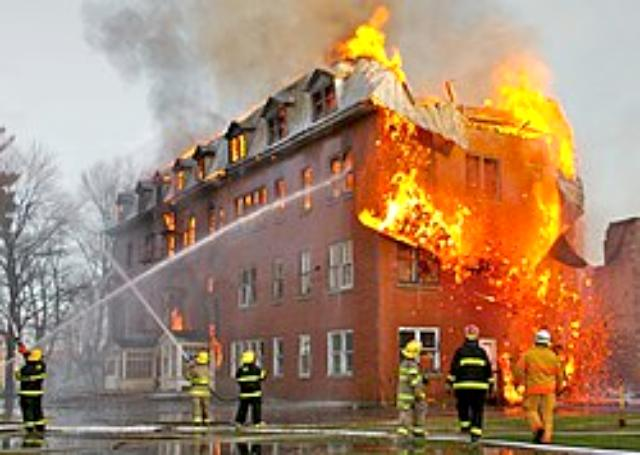fire: (337, 10, 576, 299)
